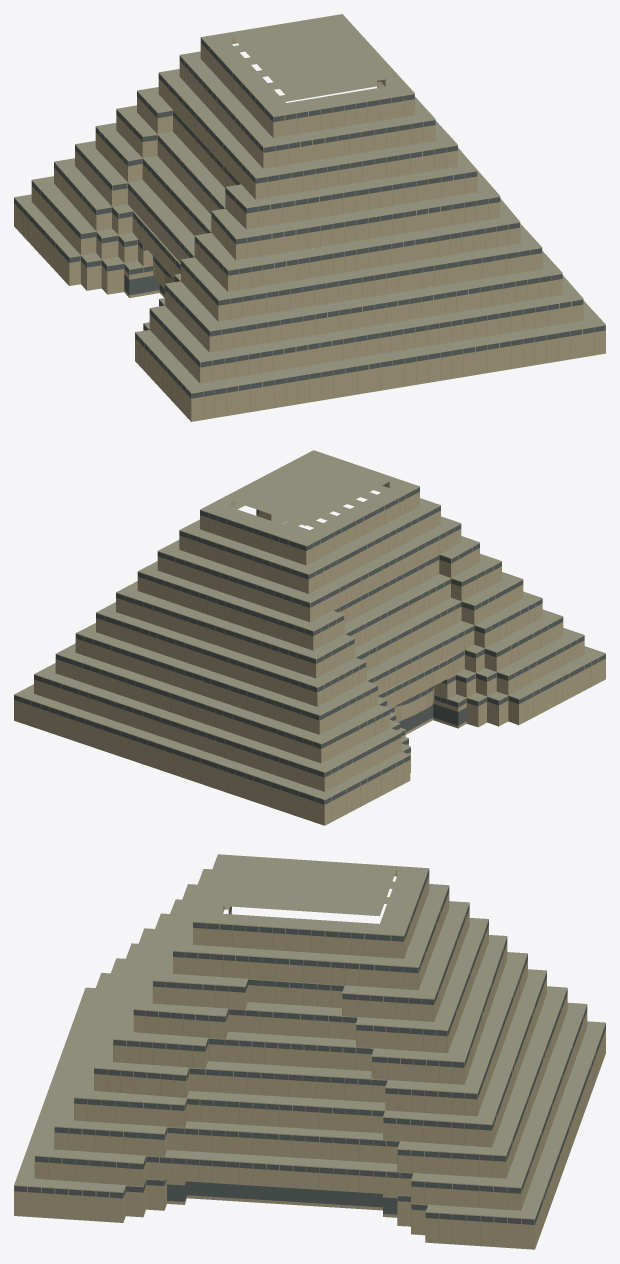
The model's file is ziggurat-west-sacramento-near.glb.
3 views of the same model, one above another, from view 1: azimuth 30°, elevation 25°; view 2: azimuth 150°, elevation 25°; view 3: azimuth 270°, elevation 25° (orthographic). The views are drawn at different scales.
Visible parts, largest first — view 1: ziggurat-west-sacramento-0-stone, ziggurat-west-sacramento-0-roof, ziggurat-west-sacramento-0-glass, ziggurat-west-sacramento-0-trim, ziggurat-west-sacramento-0-joint; view 2: ziggurat-west-sacramento-0-stone, ziggurat-west-sacramento-0-roof, ziggurat-west-sacramento-0-glass, ziggurat-west-sacramento-0-trim, ziggurat-west-sacramento-0-joint; view 3: ziggurat-west-sacramento-0-stone, ziggurat-west-sacramento-0-roof, ziggurat-west-sacramento-0-glass, ziggurat-west-sacramento-0-trim, ziggurat-west-sacramento-0-joint.
Part boxes in pixels (bbox=[...]): ziggurat-west-sacramento-0-stone: bbox=[14, 37, 605, 421]; ziggurat-west-sacramento-0-roof: bbox=[14, 14, 605, 392]; ziggurat-west-sacramento-0-glass: bbox=[14, 38, 605, 398]; ziggurat-west-sacramento-0-trim: bbox=[14, 37, 605, 398]; ziggurat-west-sacramento-0-joint: bbox=[23, 53, 594, 419]; ziggurat-west-sacramento-0-stone: bbox=[14, 482, 605, 825]; ziggurat-west-sacramento-0-roof: bbox=[14, 450, 605, 799]; ziggurat-west-sacramento-0-glass: bbox=[14, 487, 605, 804]; ziggurat-west-sacramento-0-trim: bbox=[14, 486, 605, 804]; ziggurat-west-sacramento-0-joint: bbox=[22, 499, 591, 822]; ziggurat-west-sacramento-0-stone: bbox=[14, 869, 605, 1249]; ziggurat-west-sacramento-0-roof: bbox=[14, 854, 605, 1218]; ziggurat-west-sacramento-0-glass: bbox=[14, 869, 605, 1224]; ziggurat-west-sacramento-0-trim: bbox=[14, 868, 605, 1224]; ziggurat-west-sacramento-0-joint: bbox=[34, 915, 595, 1246].
Bounding box in the file's own units: 96.62 × 48 × 104.
